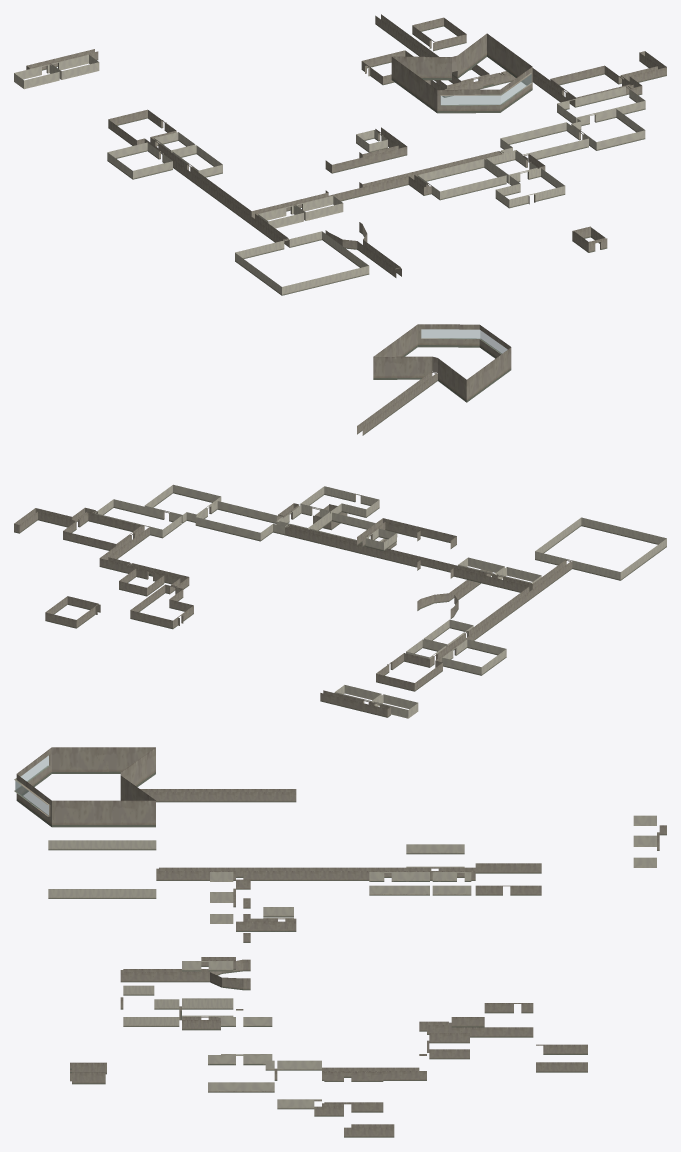
File: wall.fbx
3 renders of one model, top to bottom at view 1: azimuth 30°, elevation 25°; view 2: azimuth 150°, elevation 25°; view 3: azimuth 270°, elevation 25°, orthographic. The views are drawn at different scales.
Visible parts, largest first — view 1: walls; view 2: walls; view 3: walls.
Boxes of the visible parts, x1,y1,x2,y2 form: walls: [14, 14, 666, 295]; walls: [14, 324, 666, 718]; walls: [14, 747, 666, 1137].
Size of the model in its own units: 18202 by 6999 by 17400.
